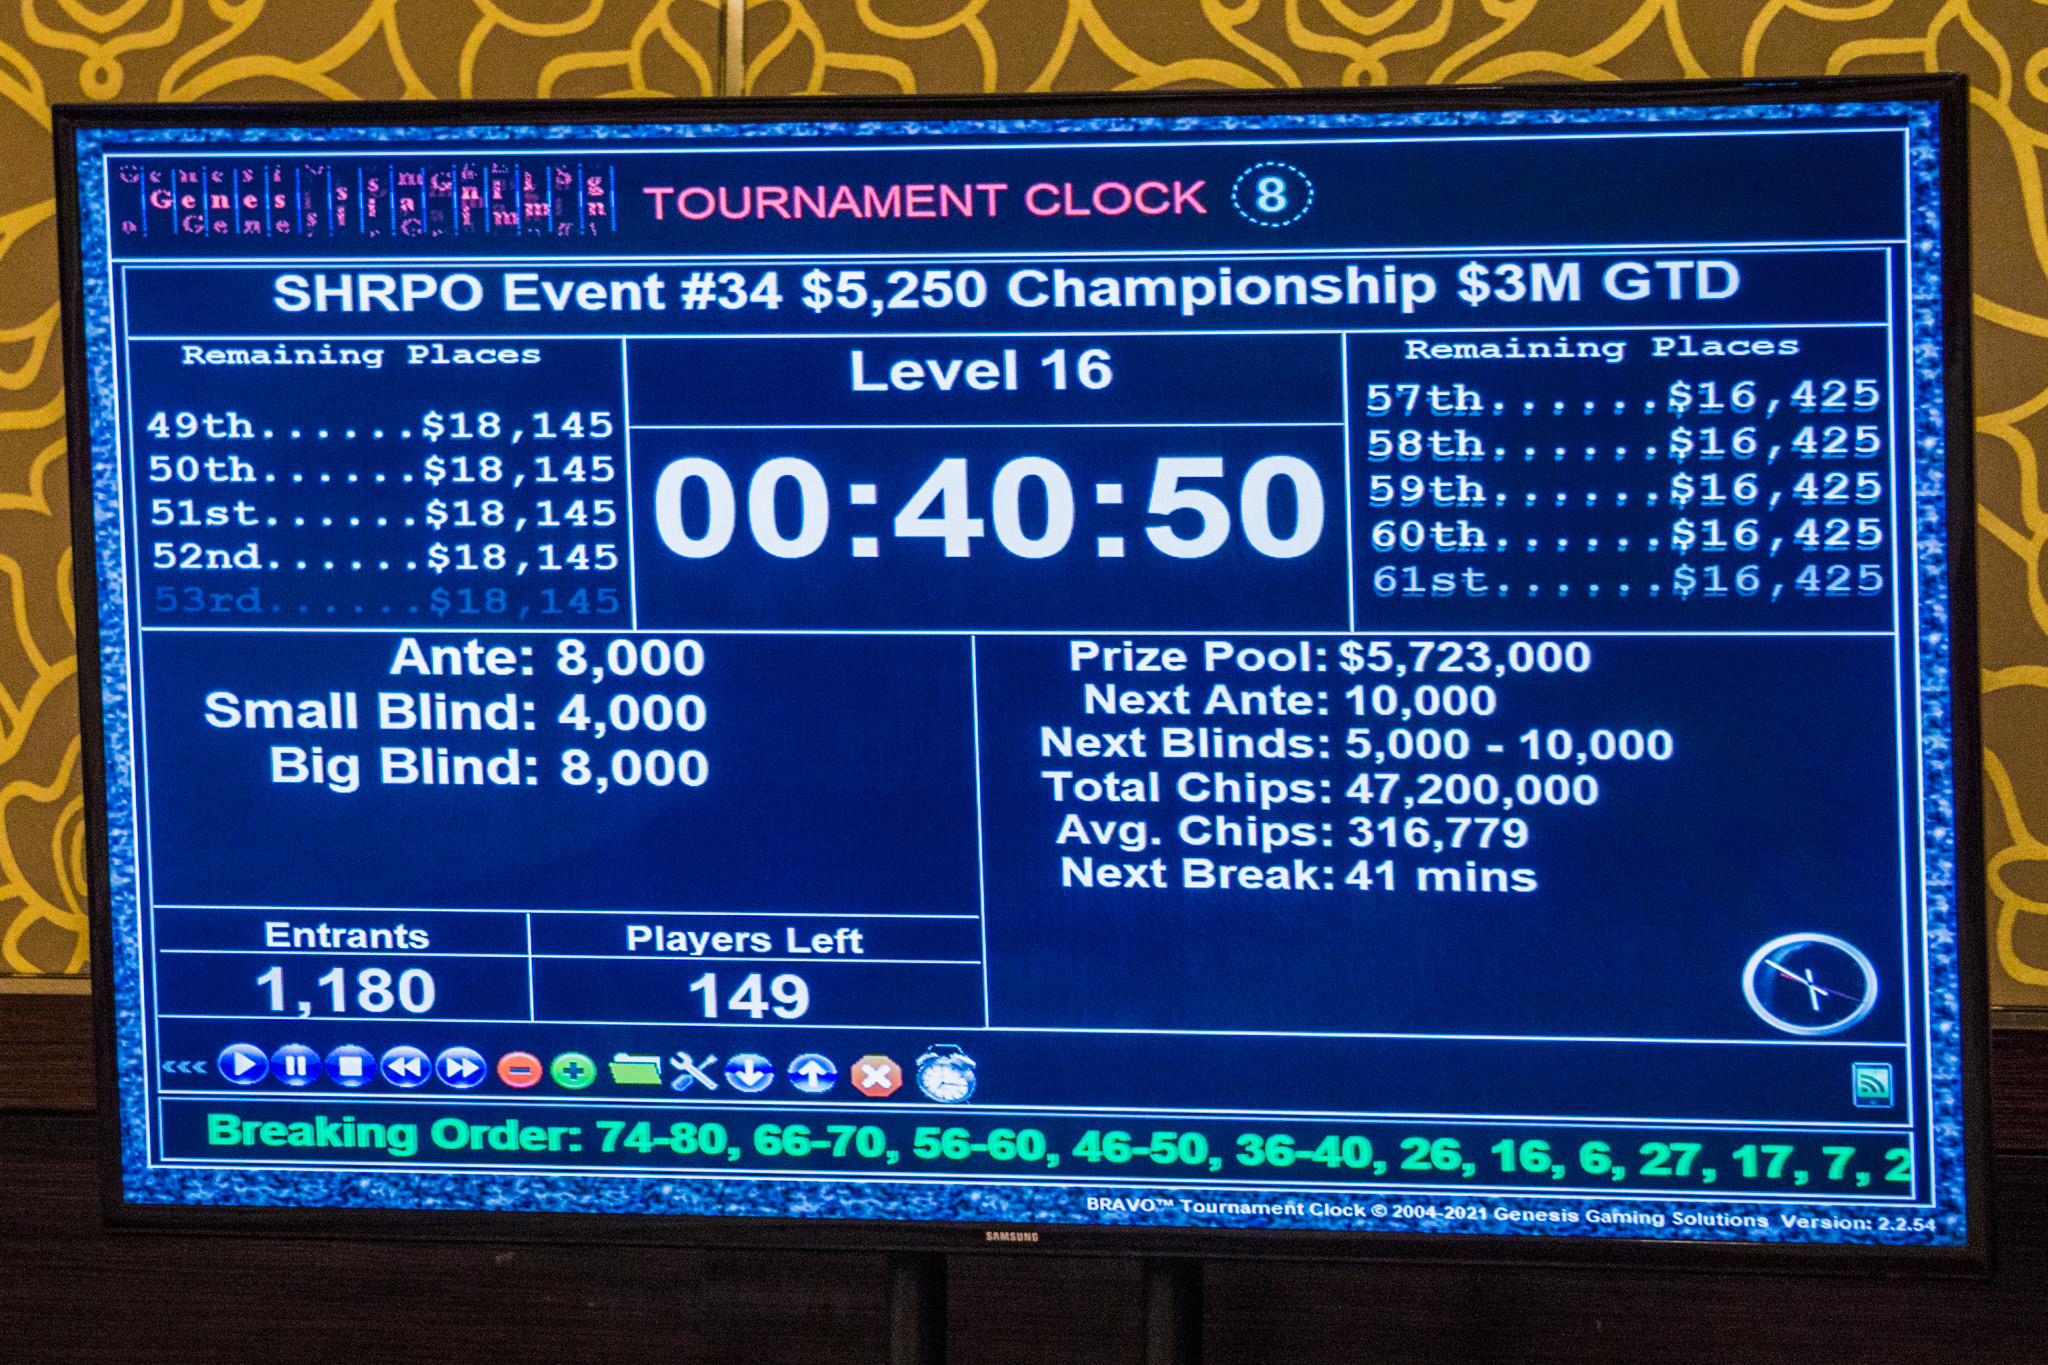PlayersLeft: (521, 905, 995, 1035)
Remaining: (1342, 323, 1900, 641), (115, 326, 640, 633)
TournamentClock: (102, 255, 1917, 1053)
